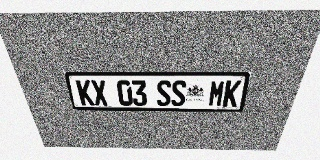0: (116, 80, 133, 106)
3: (131, 80, 147, 106)
K: (222, 80, 242, 107), (75, 80, 95, 106)
M: (208, 80, 226, 107)
S: (156, 80, 171, 106), (171, 80, 186, 106)
X: (90, 80, 109, 106)
